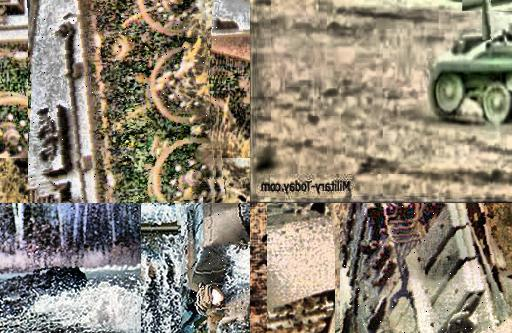tanks: (29, 1, 218, 204), (342, 204, 512, 333), (182, 204, 251, 333), (433, 30, 512, 125), (484, 1, 492, 40)
